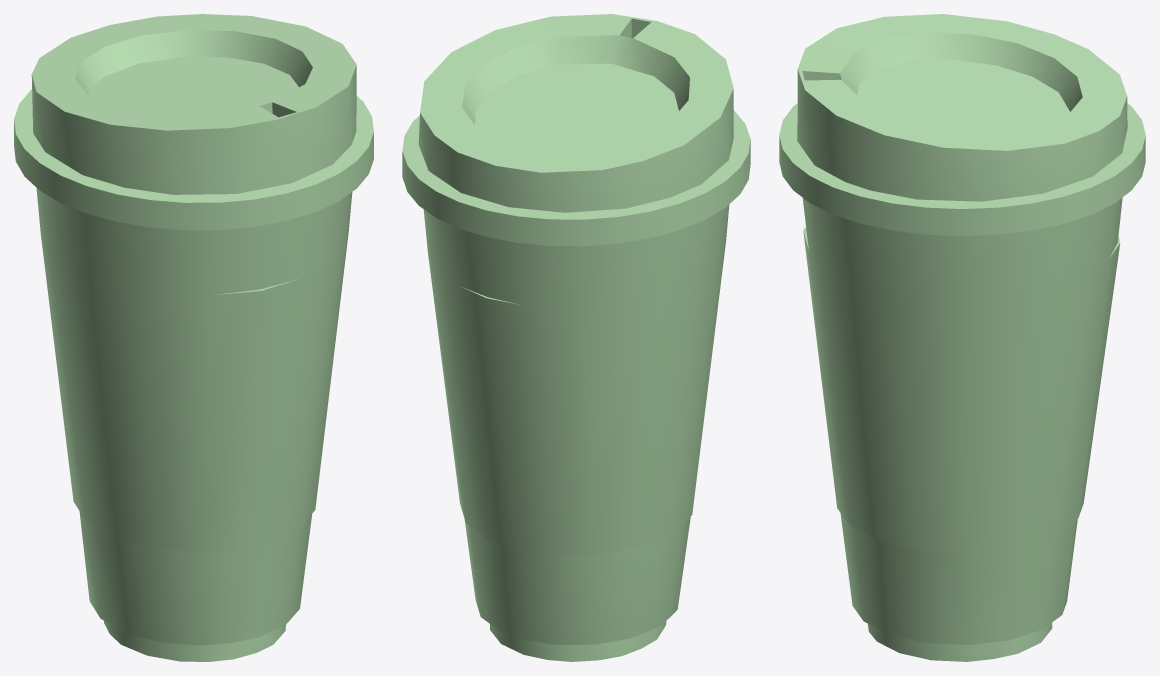
File: CoffeeCup.fbx
3 renders of one model, left to right at view 1: azimuth 30°, elevation 25°; view 2: azimuth 150°, elevation 25°; view 3: azimuth 270°, elevation 25°, orthographic. The views are drawn at different scales.
Parts seen in each view (by area): view 1: CoffeeCup; view 2: CoffeeCup; view 3: CoffeeCup.
Part boxes in pixels (x1,y1,x2,y2): CoffeeCup: [14, 14, 373, 661]; CoffeeCup: [402, 14, 750, 661]; CoffeeCup: [779, 14, 1145, 661].
Bounding box in the file's own units: 13.43 × 23.43 × 14.01.
